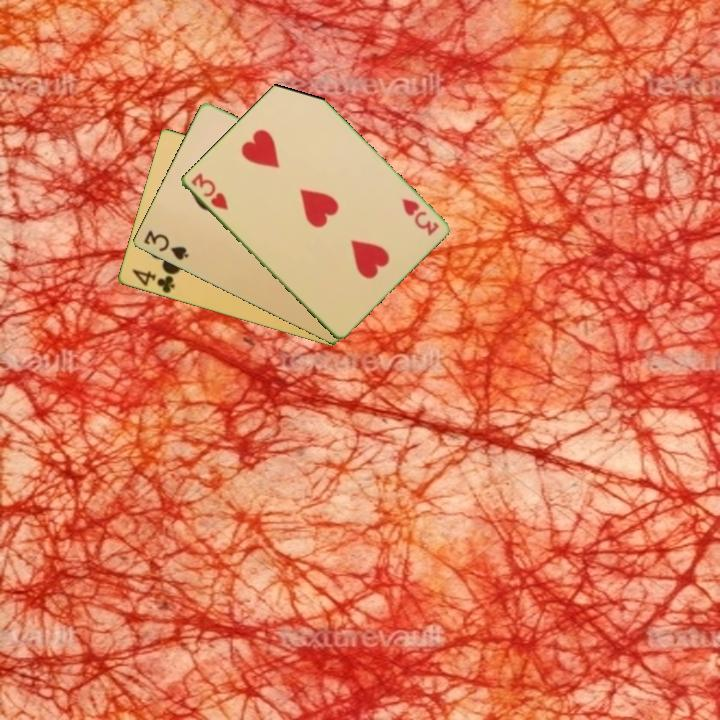3h: (187, 169, 231, 213), (398, 195, 441, 239)
3s: (140, 227, 191, 263)
4c: (128, 266, 177, 296)
